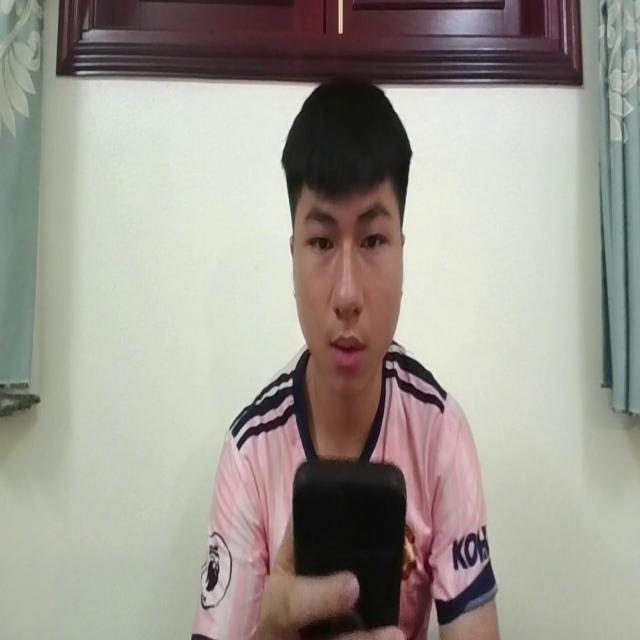phone: (288, 447, 407, 640)
student: (200, 77, 493, 640)
